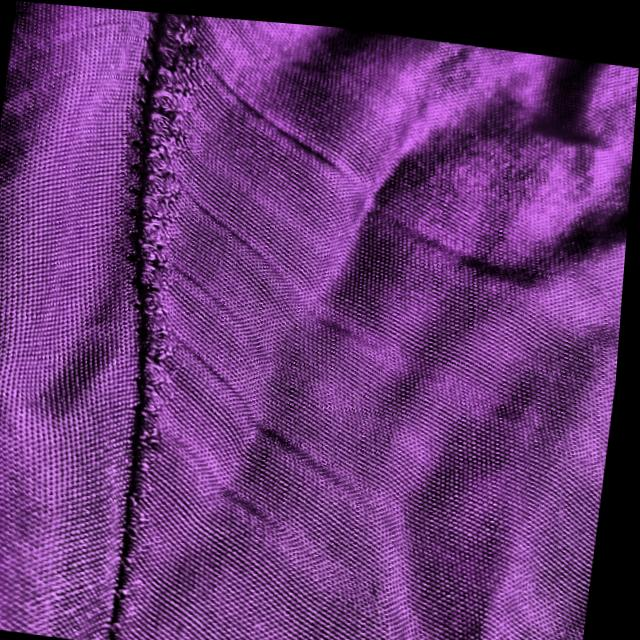seam: (58, 6, 225, 528)
